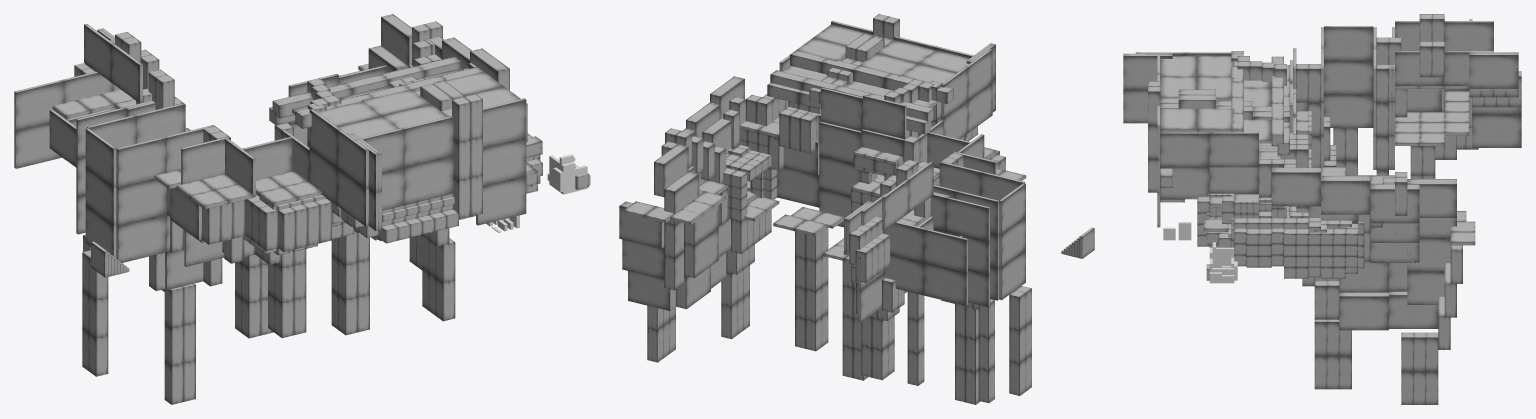
Rendered from level1_10.fbx.
3 views of the same model, side by side, from view 1: azimuth 30°, elevation 25°; view 2: azimuth 150°, elevation 25°; view 3: azimuth 270°, elevation 25° (orthographic). The views are drawn at different scales.
Visible parts, largest first — view 1: 16x12.032, 16x12.047, 16x12.033, 16x12.031, 16x12.040, 16x12.100, 16x12.042, 16x12.048, 16x12.041, 16x12.027, 16x12.099, 16x12.073 (+65 smaller); view 2: 16x12.082, 16x12.100, 16x12.060, 16x12.099, 16x12.059, 16x12.018, 16x12.010, 16x12.014, 16x12.012, 16x12.011, 16x12.016, 16x12.088 (+76 smaller); view 3: 16x12.068, 16x12.009, 16x12.067, 16x12.045, 16x12.092, 16x12.052, 16x12.069, 16x12.094, 16x12.070, 16x12.071, 16x12.066, 16x12.065 (+65 smaller).
Boxes of the visible parts, x1,y1,x2,y2 form: 16x12.032: (116, 137, 166, 187); 16x12.047: (403, 116, 453, 166); 16x12.033: (116, 214, 166, 262); 16x12.031: (116, 179, 166, 225); 16x12.040: (405, 155, 453, 205); 16x12.100: (14, 79, 64, 130); 16x12.042: (476, 176, 526, 225); 16x12.048: (483, 98, 526, 147); 16x12.041: (483, 138, 526, 185); 16x12.027: (181, 136, 230, 184); 16x12.099: (14, 122, 61, 168); 16x12.073: (136, 103, 185, 143); 16x12.082: (946, 197, 990, 241); 16x12.100: (924, 228, 967, 272); 16x12.060: (863, 95, 906, 138); 16x12.099: (924, 263, 967, 305); 16x12.059: (821, 87, 862, 131); 16x12.018: (819, 121, 861, 163); 16x12.010: (628, 271, 676, 310); 16x12.014: (777, 167, 819, 207); 16x12.012: (619, 201, 664, 248); 16x12.011: (622, 239, 664, 279); 16x12.016: (819, 155, 861, 195); 16x12.088: (882, 221, 925, 262); 16x12.068: (1271, 167, 1320, 206); 16x12.009: (1339, 292, 1388, 330); 16x12.067: (1321, 176, 1370, 214); 16x12.045: (1160, 132, 1209, 167); 16x12.092: (1469, 53, 1518, 88); 16x12.052: (1209, 132, 1258, 167); 16x12.069: (1324, 26, 1373, 60); 16x12.094: (1472, 114, 1521, 147); 16x12.070: (1324, 61, 1373, 94); 16x12.071: (1324, 94, 1373, 127); 16x12.066: (1370, 184, 1419, 223); 16x12.065: (1407, 179, 1456, 217).
Size of the model in its own units: 15043 by 10200 by 12900.
